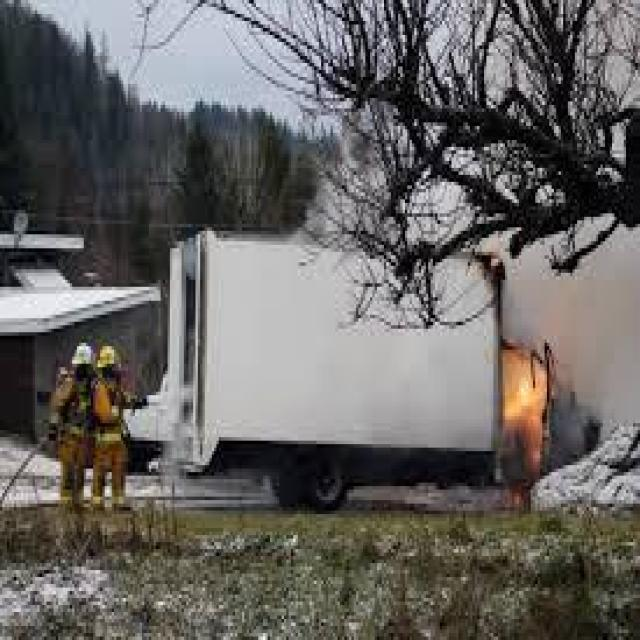fire: (476, 312, 566, 477)
